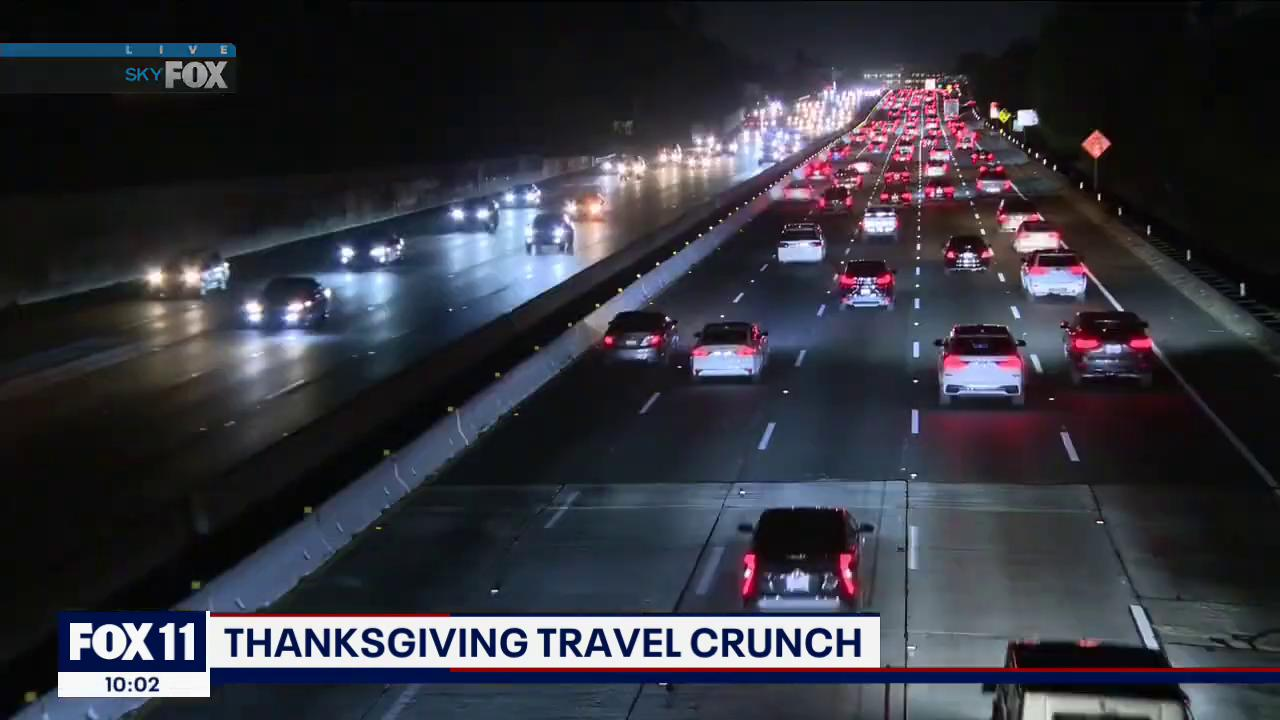car: (748, 500, 874, 606), (929, 323, 1029, 404), (1065, 311, 1158, 386), (138, 244, 232, 304), (250, 278, 336, 334), (693, 323, 775, 377), (594, 313, 675, 362), (1019, 251, 1093, 300), (776, 223, 827, 262), (840, 260, 896, 294), (942, 237, 994, 272), (1014, 224, 1067, 253), (997, 198, 1043, 230)
